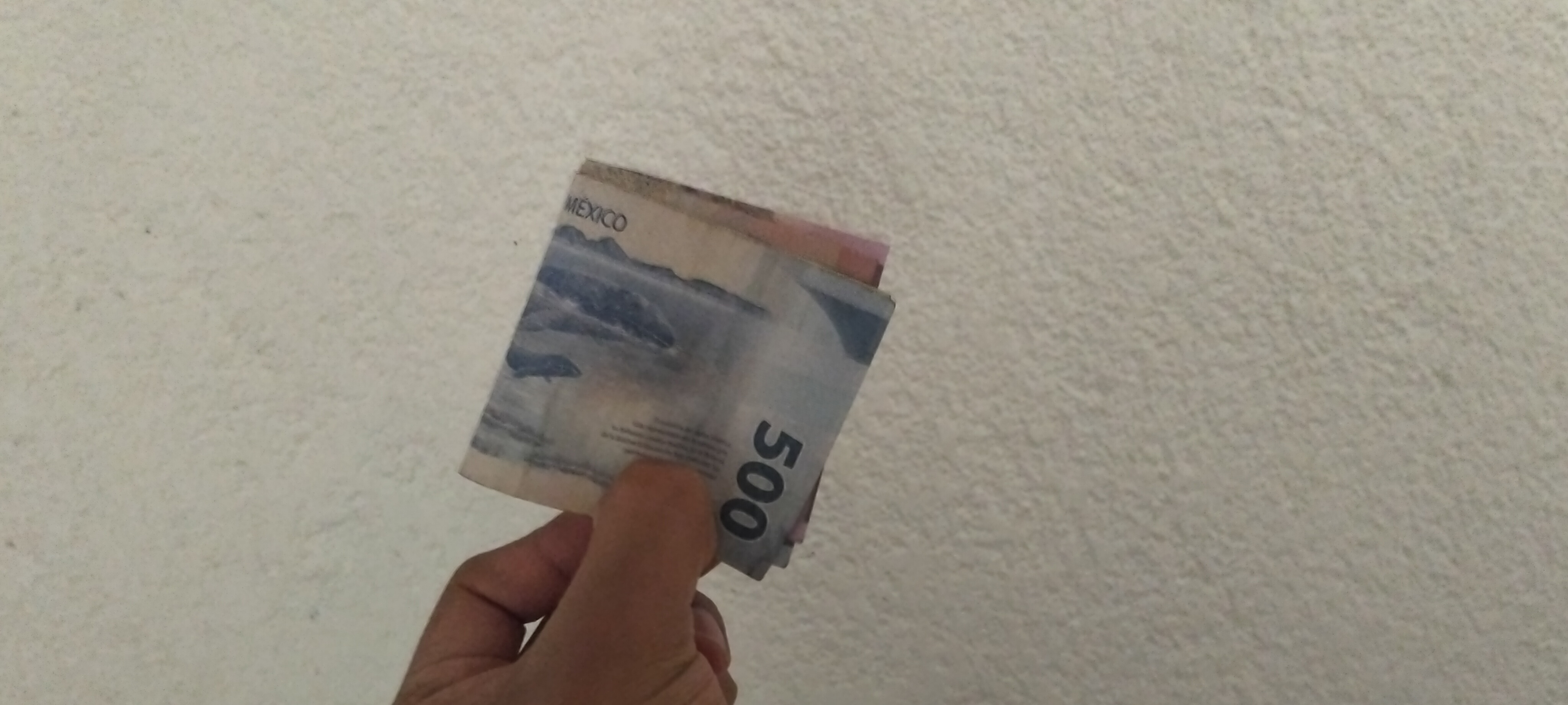billetes: (435, 128, 932, 603)
